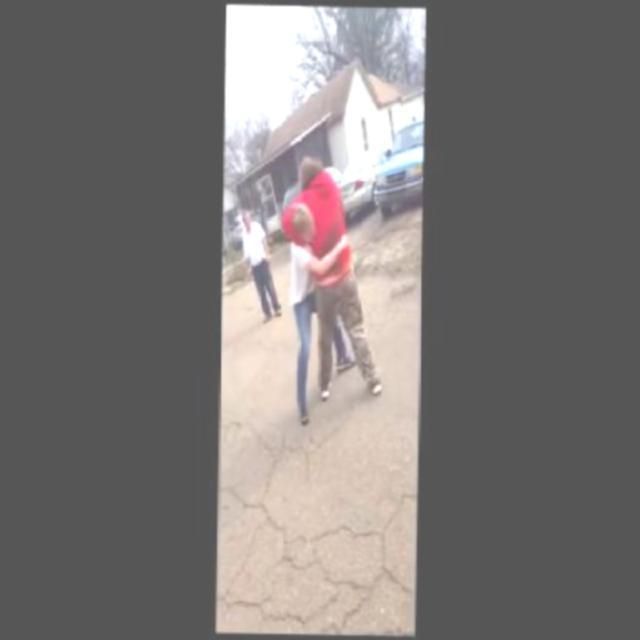fight: (284, 156, 358, 327)
non-fight: (235, 206, 280, 320)
